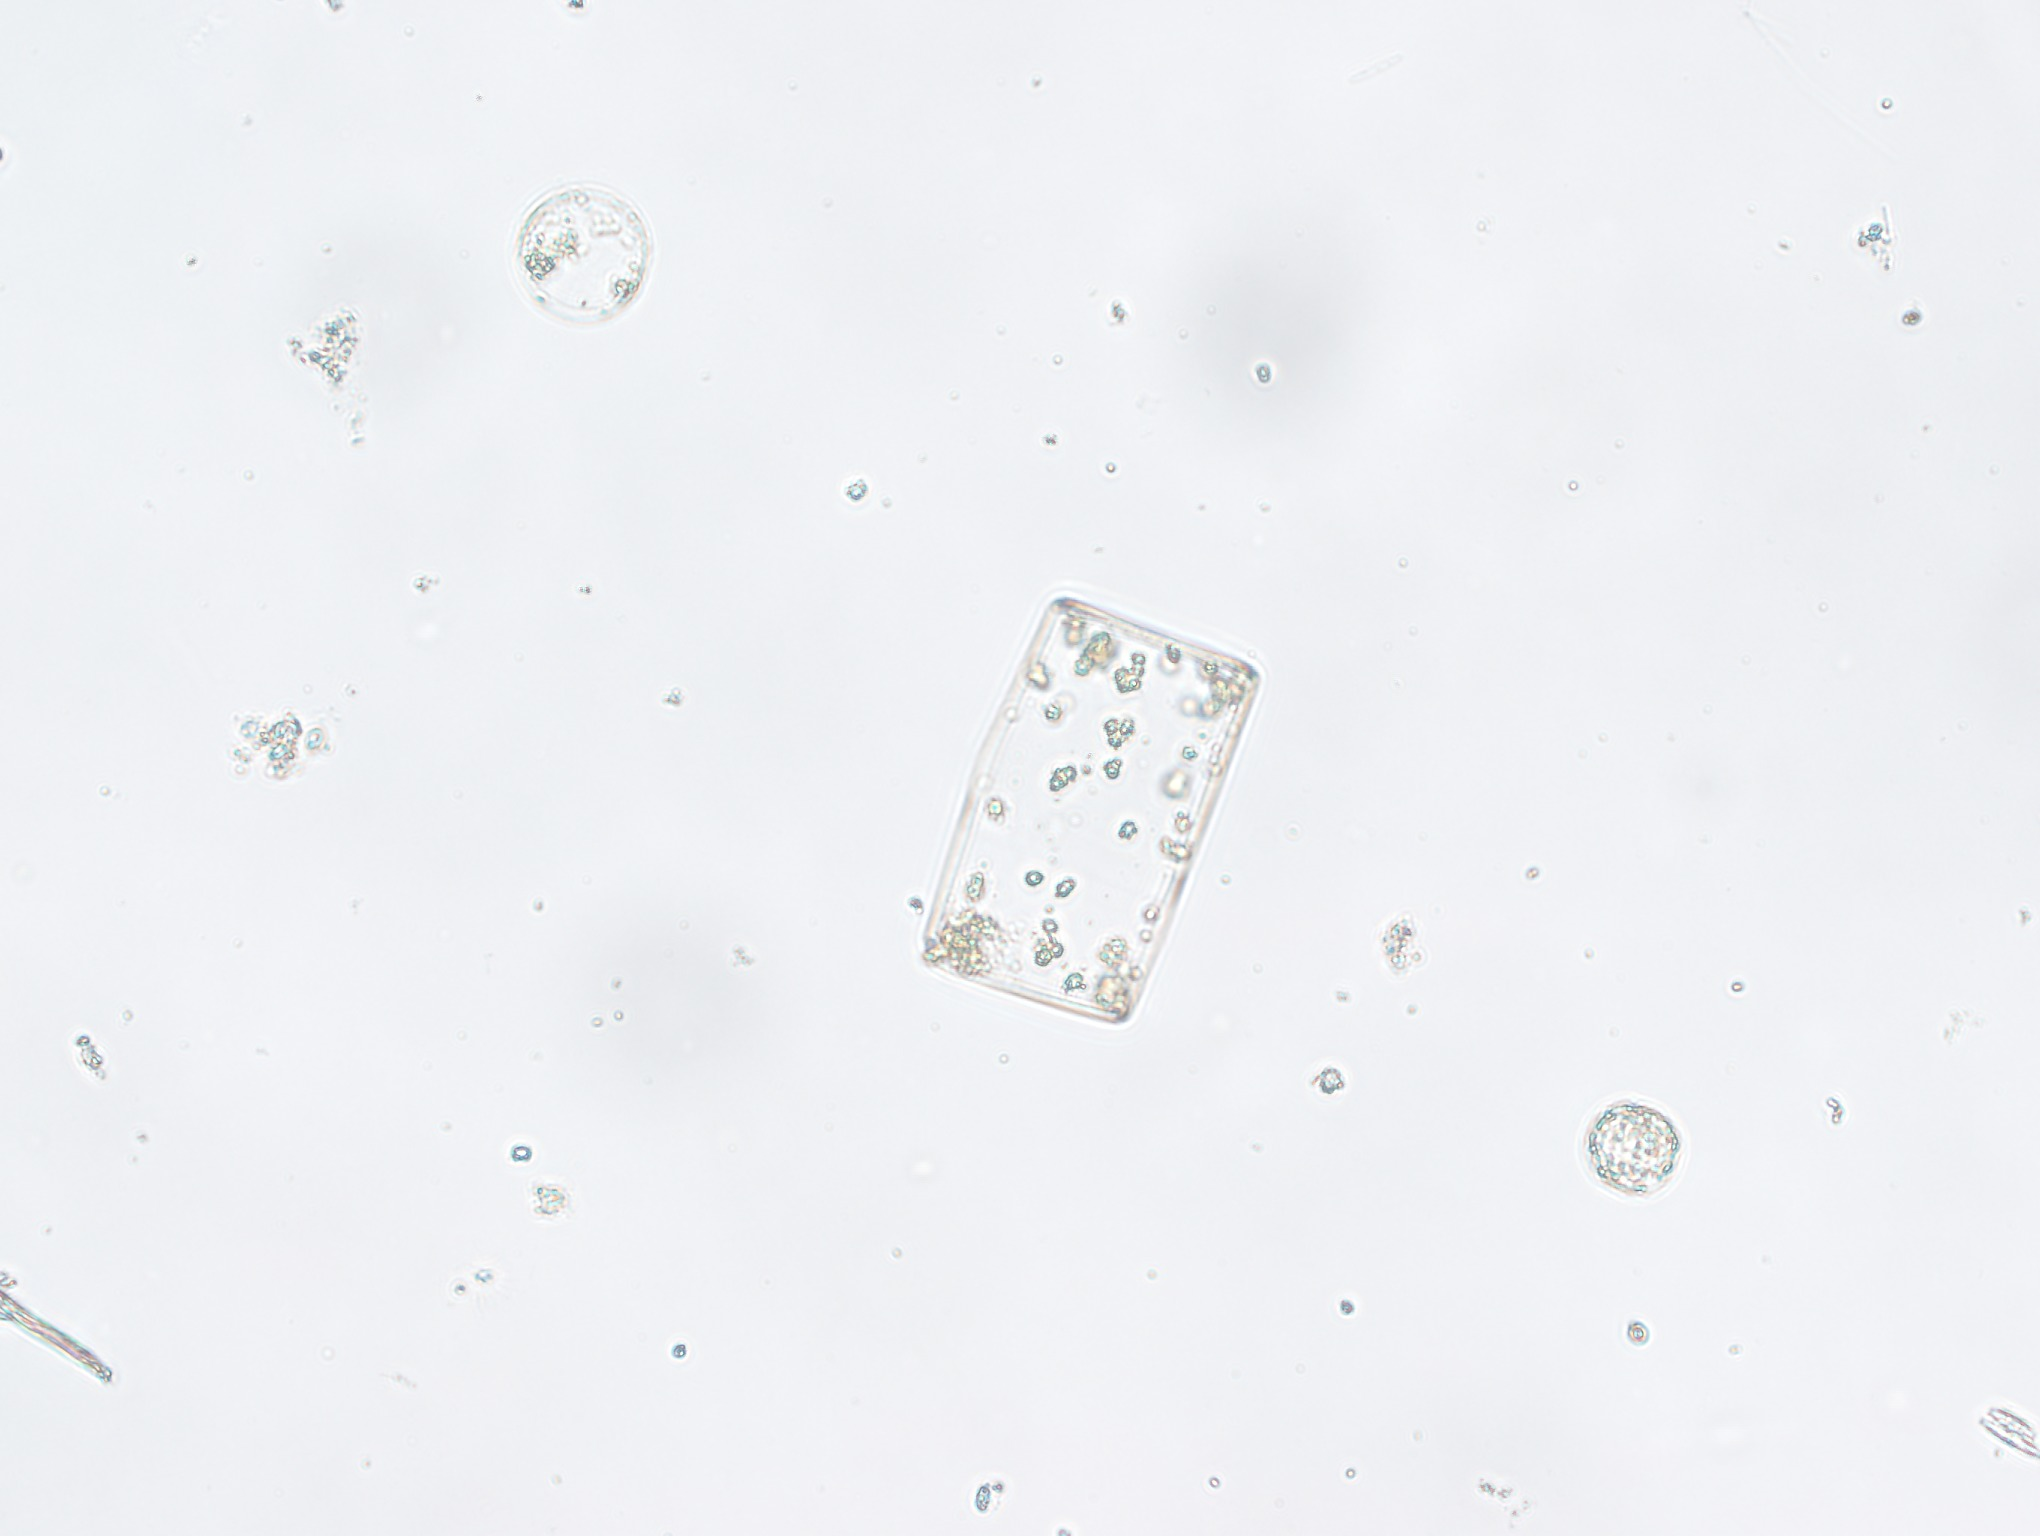guinardia flaccida: (908, 587, 1279, 1033)
